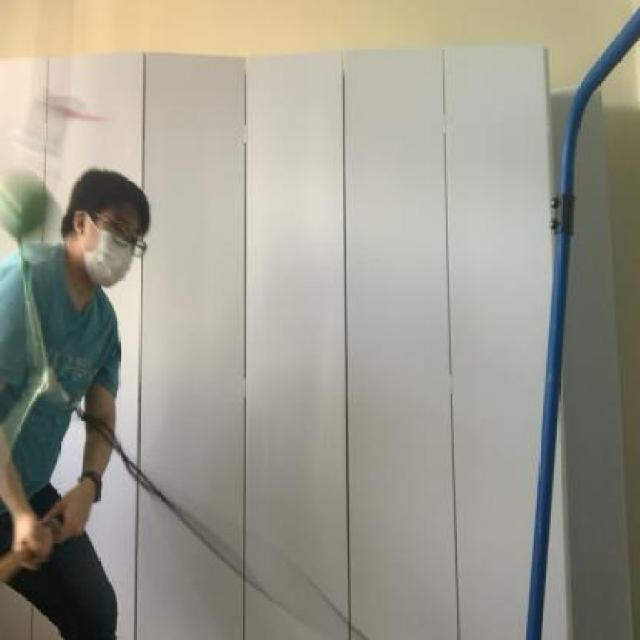baseball: (0, 159, 55, 246)
